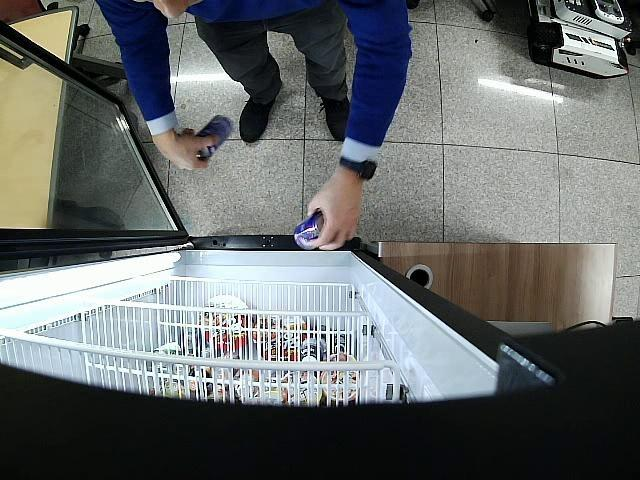14_welchsGrape: (196, 115, 233, 158), (295, 213, 325, 248)
